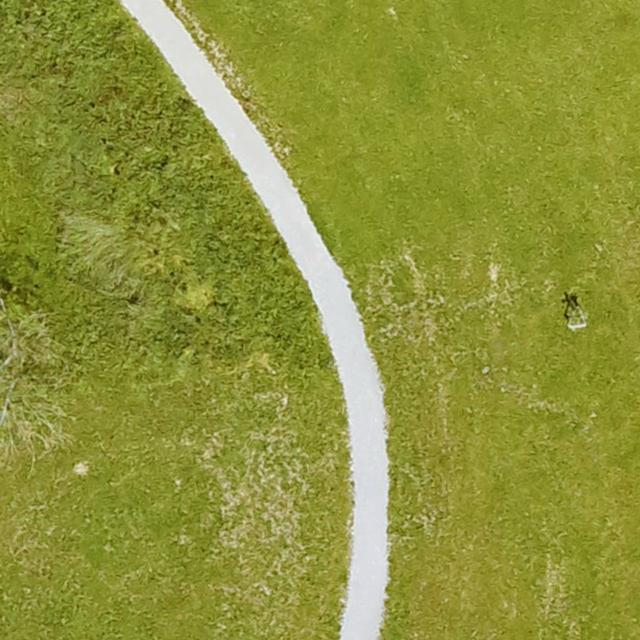tree: (566, 309, 584, 329)
